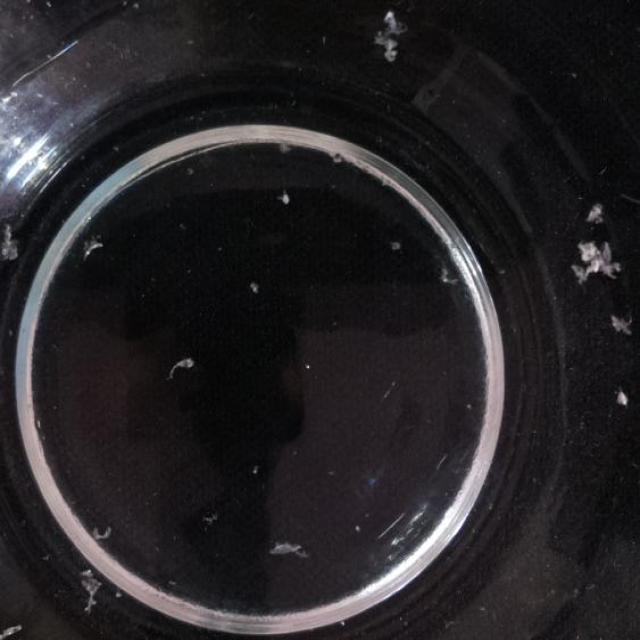fiber: (571, 238, 625, 282), (369, 1, 399, 63), (264, 535, 318, 566), (74, 571, 108, 618), (423, 252, 455, 288), (609, 392, 639, 424), (610, 305, 638, 339), (168, 349, 200, 378), (0, 224, 22, 262), (386, 226, 411, 258), (583, 200, 614, 225), (188, 502, 217, 528), (85, 520, 109, 550), (0, 617, 22, 639), (78, 232, 99, 255), (279, 192, 295, 208)
